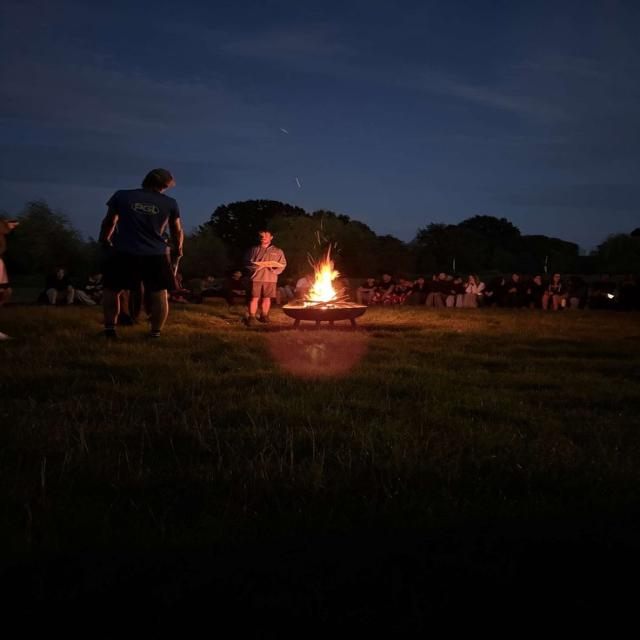fire: (303, 242, 341, 309)
